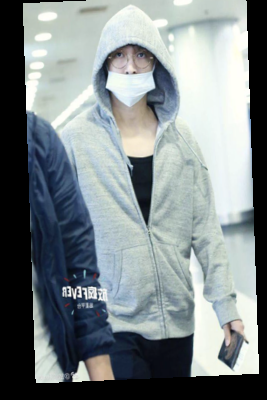mask_weared_incorrect: (87, 9, 178, 111)
